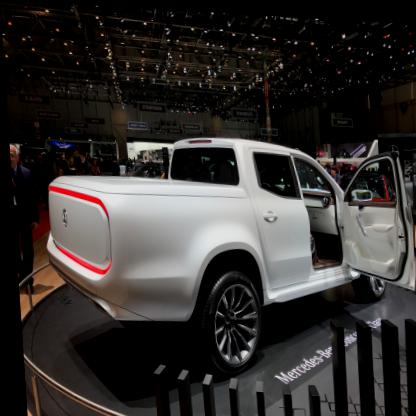Car: (36, 125, 415, 382)
